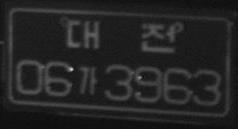0: (16, 58, 43, 96)
3: (104, 63, 134, 101), (193, 69, 222, 107)
6: (43, 60, 74, 97), (164, 66, 192, 106)
9: (135, 65, 164, 103)
가: (76, 64, 97, 95)
대전_D: (65, 18, 176, 53)
